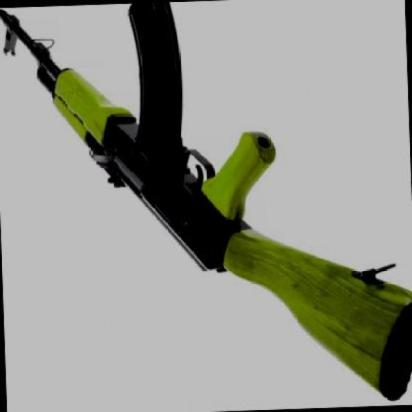Gun: (0, 11, 412, 400)
